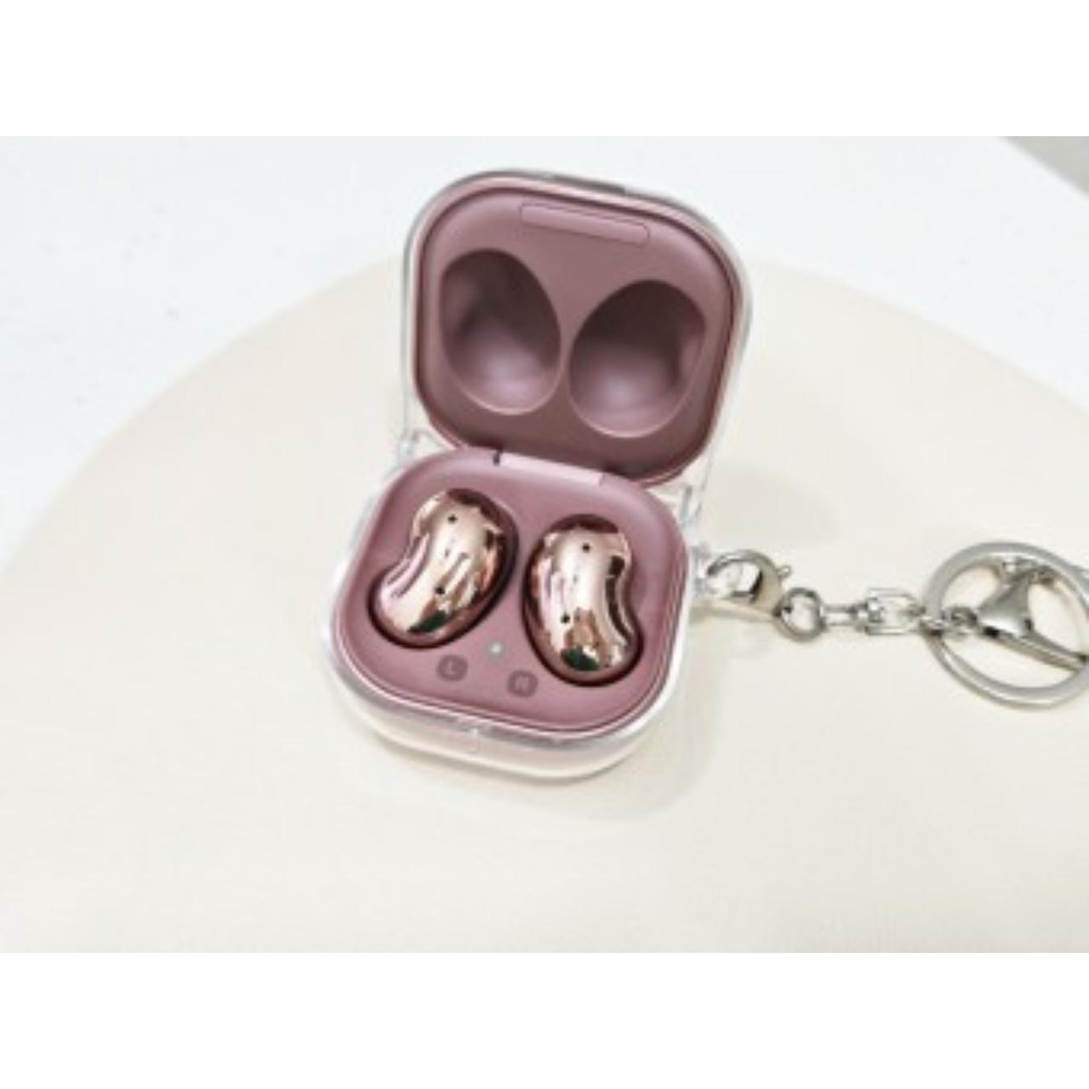Buds: (319, 164, 753, 786)
Buds_Units: (363, 482, 523, 651), (518, 508, 650, 688)
